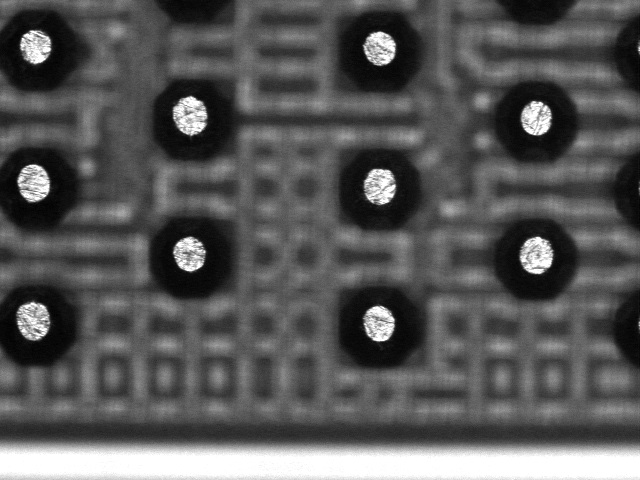over: (146, 211, 242, 304), (330, 278, 426, 371), (490, 210, 586, 303), (490, 74, 586, 167), (332, 4, 428, 97), (330, 142, 426, 235), (141, 70, 237, 163), (1, 2, 96, 95), (1, 142, 96, 235), (1, 275, 96, 368)
